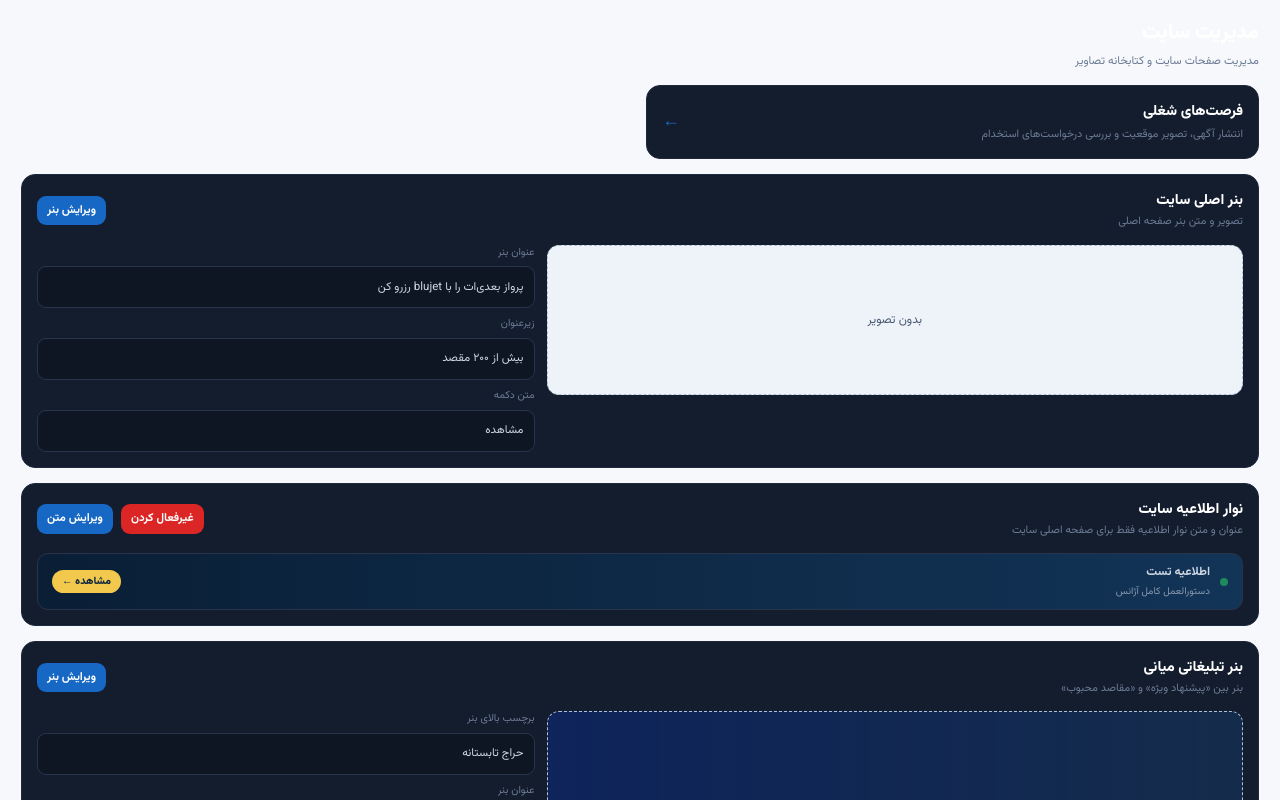
MediaAdminPage › allows the site admin to edit the public-site announcement bar
Expected: the heading "نوار اطلاعیه سایت" is shown, x1=1139 y1=498 x2=1243 y2=521
Click the button with test id "edit-agency-announcement" at x=75, y=519, box x1=37 y1=504 x2=113 y2=534
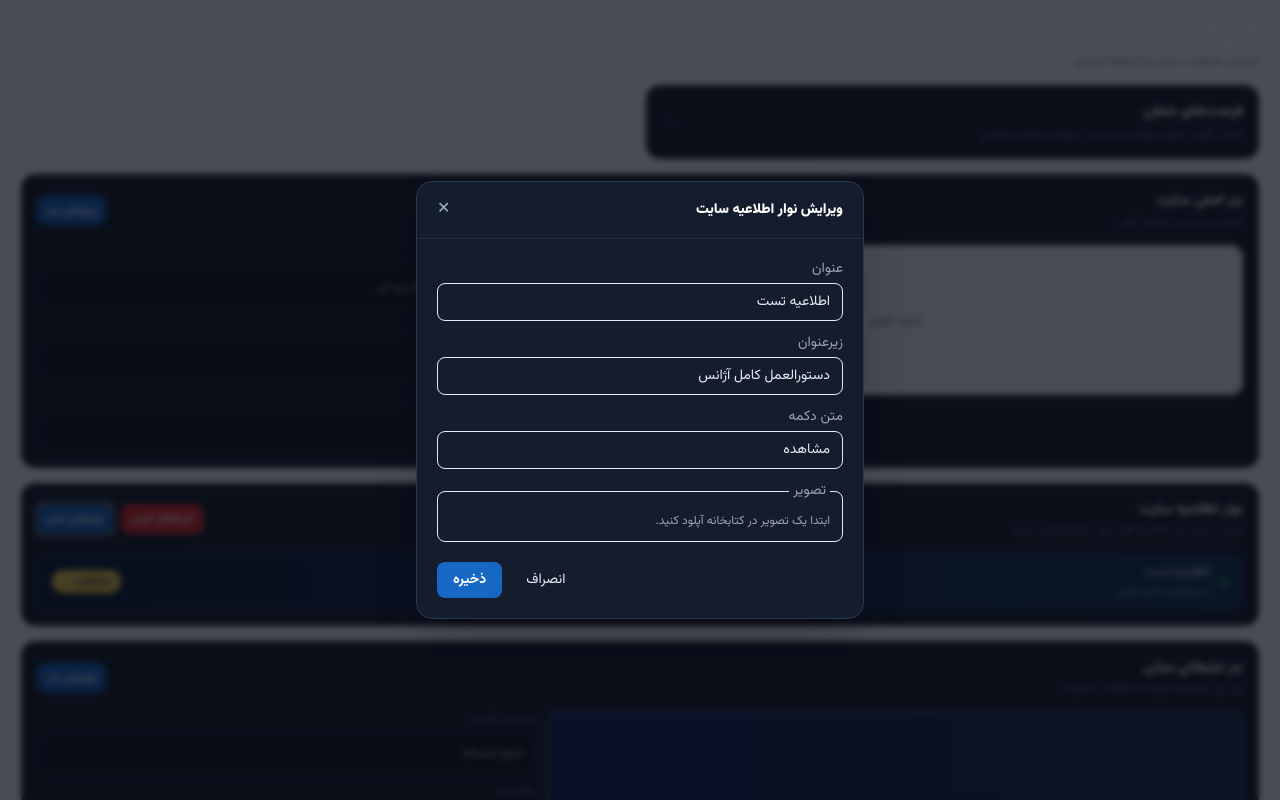
Result: the field showing "دستورالعمل کامل آژانس" is shown at x1=437 y1=357 x2=843 y2=395
